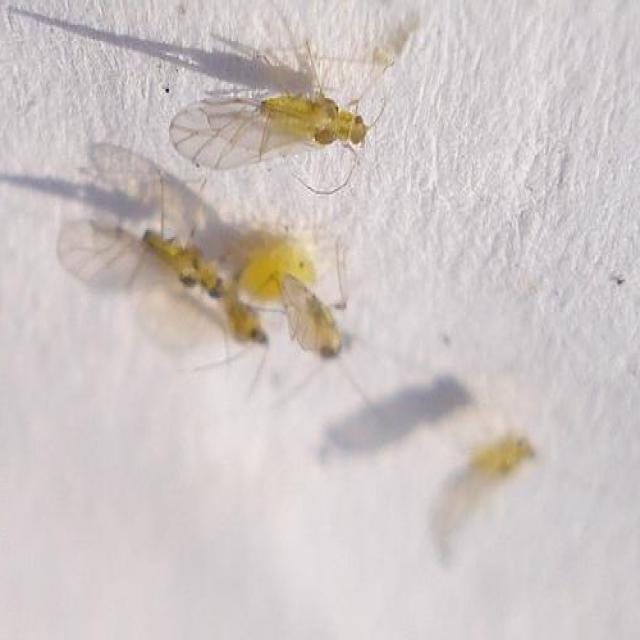aphid: (80, 216, 346, 382), (156, 67, 385, 196), (426, 432, 547, 540)
